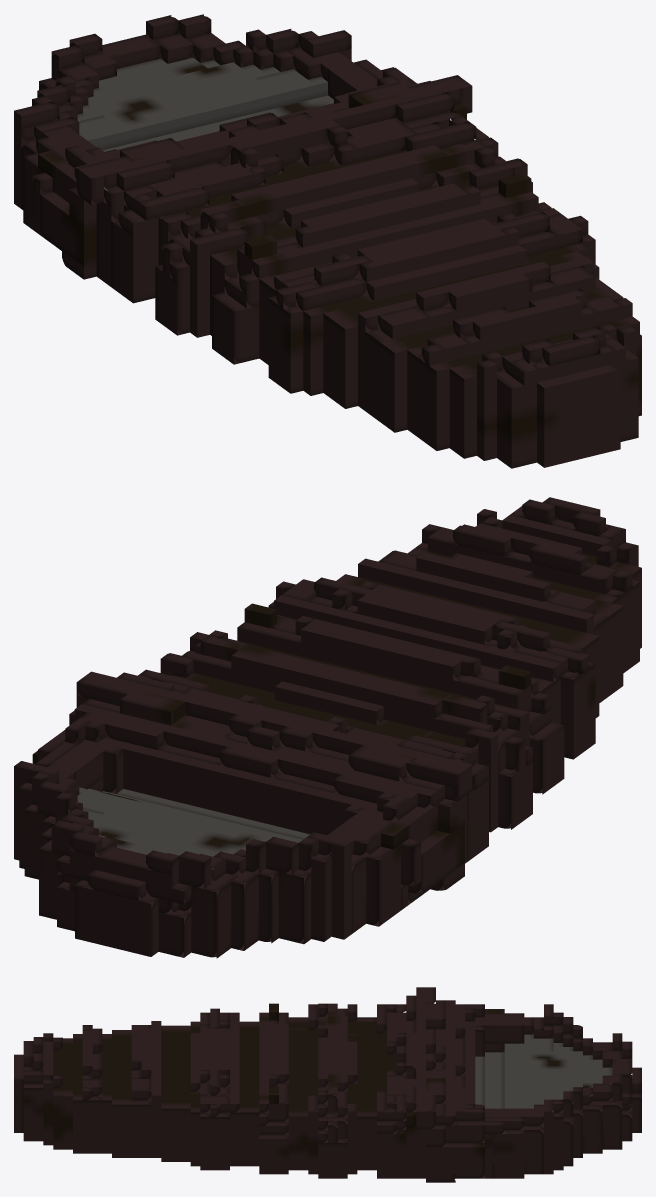
Rendered from Spiwor.dae.
3 views of the same model, one above another, from view 1: azimuth 30°, elevation 25°; view 2: azimuth 150°, elevation 25°; view 3: azimuth 270°, elevation 25° (orthographic). The views are drawn at different scales.
Parts seen in each view (by area): view 1: Spiwor; view 2: Spiwor; view 3: Spiwor.
Part boxes in pixels (left/top/right/bottom): Spiwor: left=14, top=14, right=641, bottom=468; Spiwor: left=14, top=497, right=641, bottom=958; Spiwor: left=14, top=987, right=641, bottom=1182.
Bounding box in the file's own units: 30 × 8 × 64.
1 material, 1 textured.
